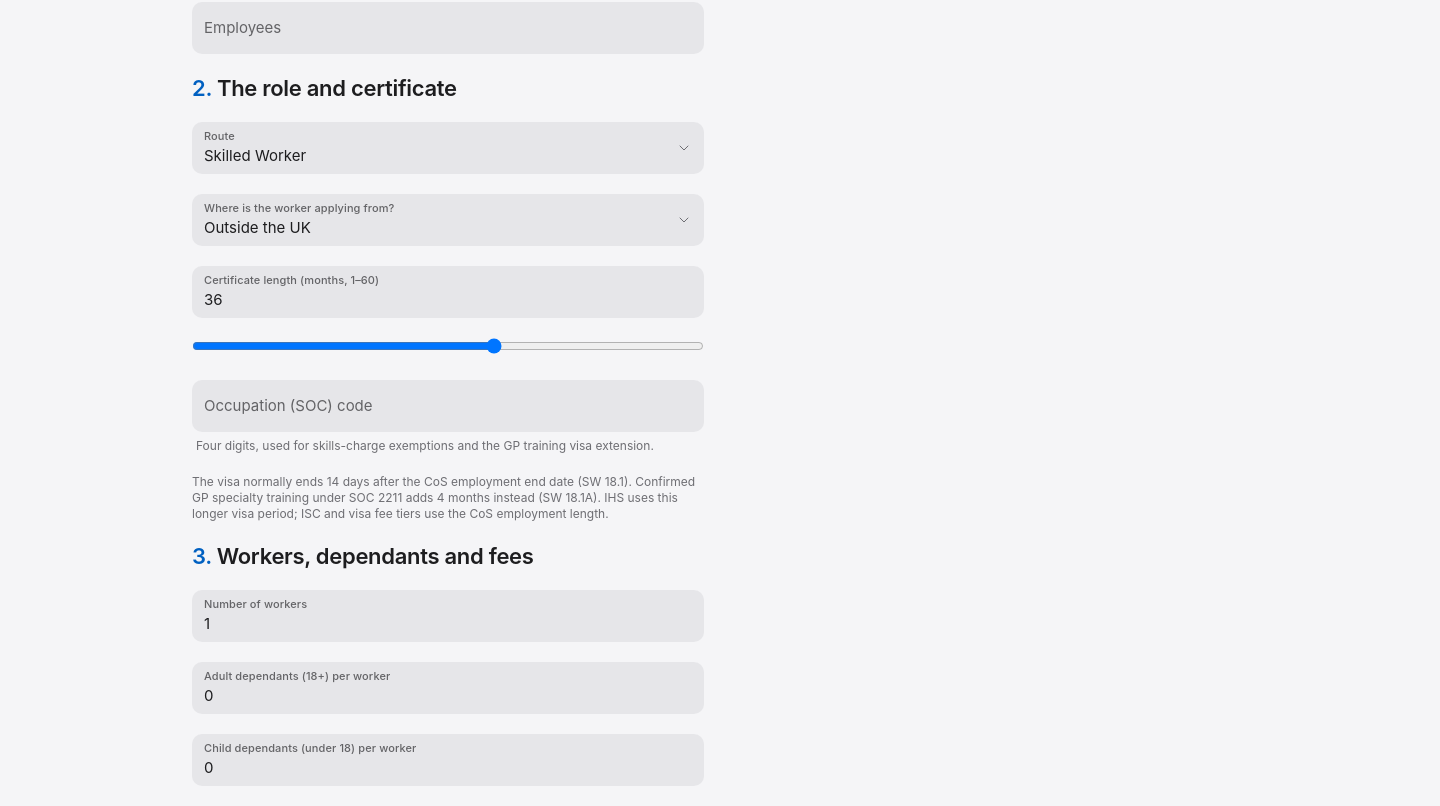
Test: public sponsor licence cost calculator › asks for GP specialty training confirmation and applies the four-month exception
The image size is (1440, 806).
(page scrolled)
In the field labelled "Occupation (SOC) code": (448, 406) x1=204 y1=380 x2=692 y2=432, type "2211"
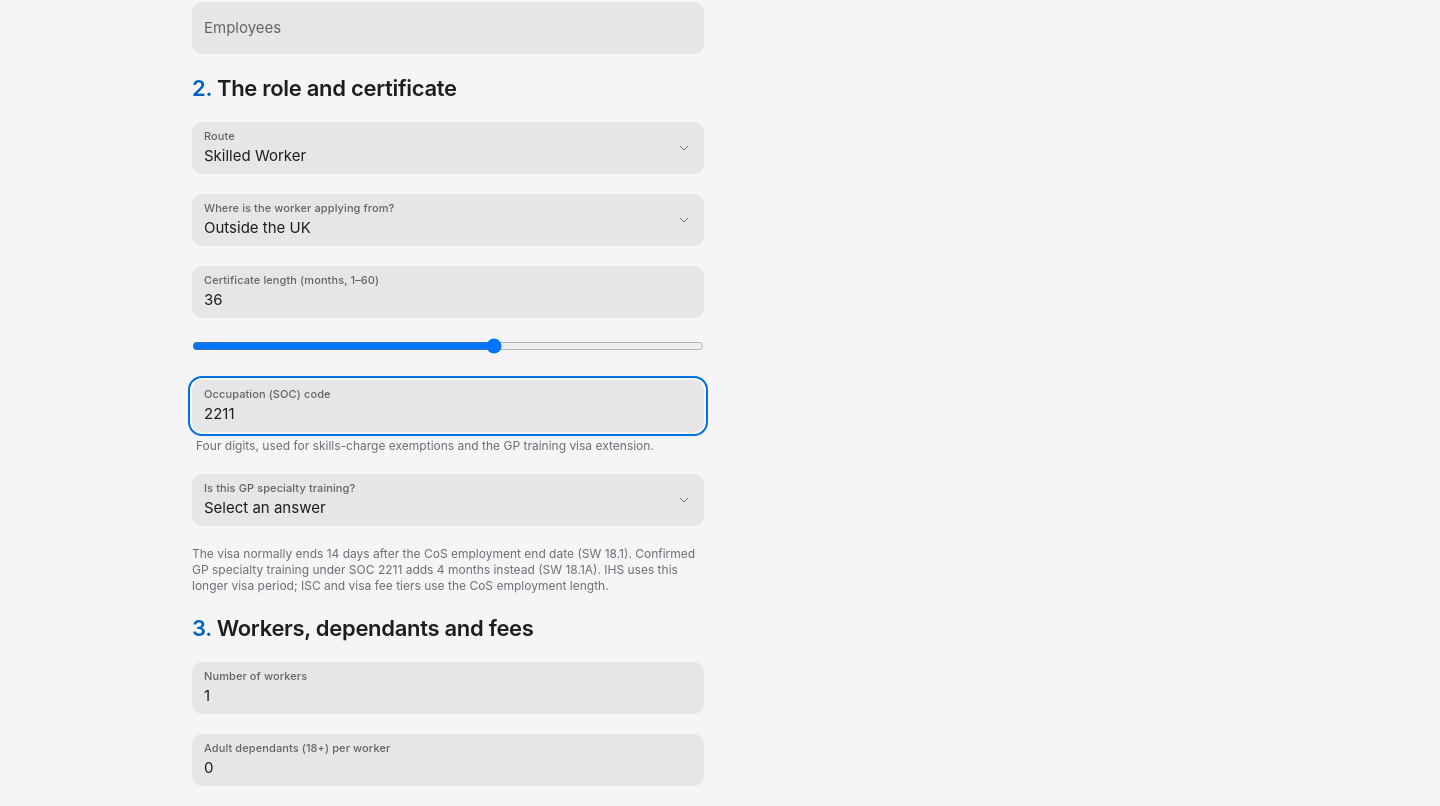
Select "Yes" in the dropdown labelled "Is this GP specialty training?": (448, 500) x1=192 y1=474 x2=704 y2=526
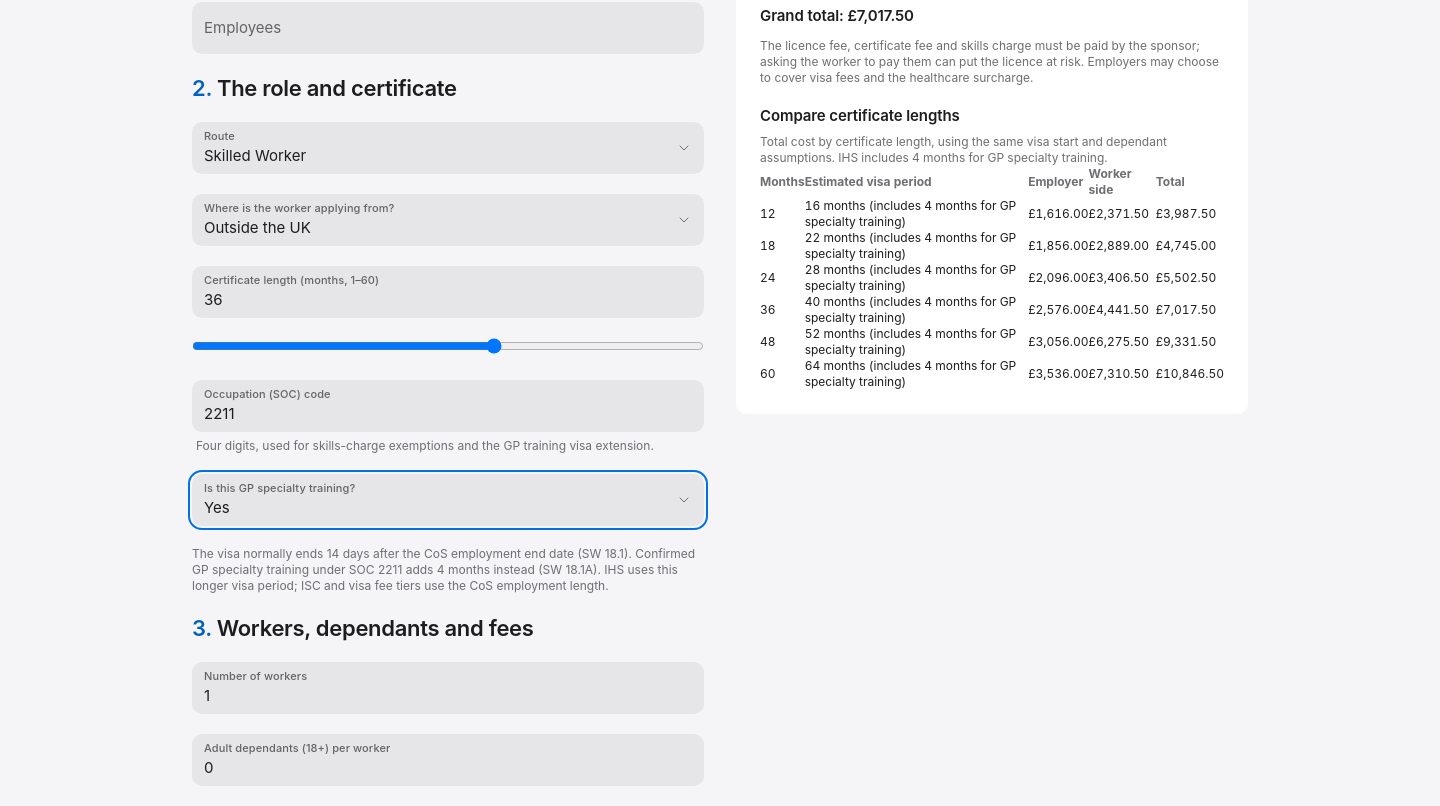
Now the table shows "IHS includes 4 months for GP specialty training", box x1=760 y1=134 x2=1224 y2=390
